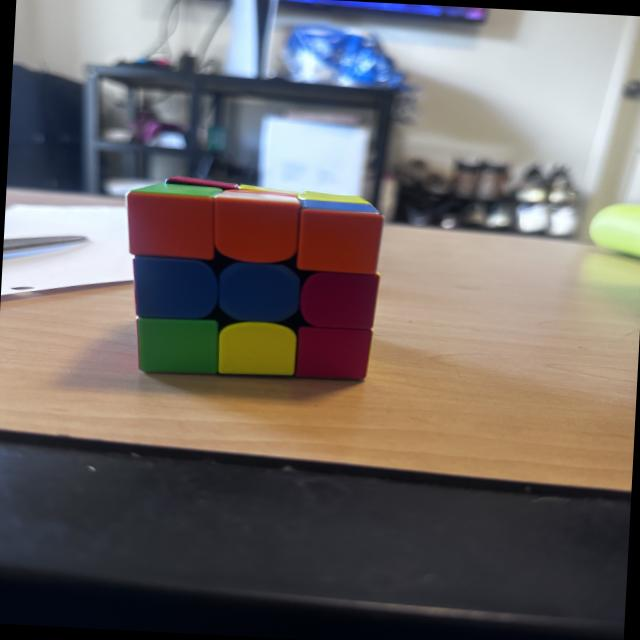sticker: (120, 178, 222, 262), (293, 192, 386, 278), (211, 187, 304, 268), (130, 255, 220, 322), (297, 268, 382, 334), (218, 262, 304, 326), (134, 315, 223, 376), (217, 319, 300, 379), (293, 325, 375, 384)
